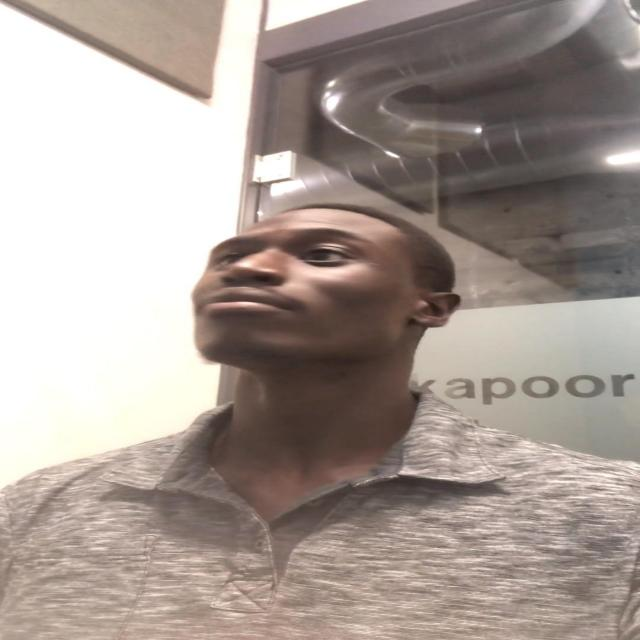face: (189, 215, 434, 368)
